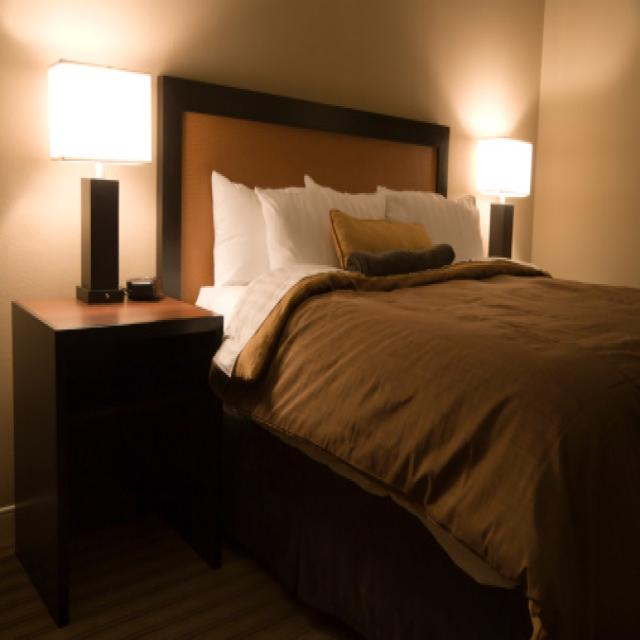Table: (1, 259, 249, 607)
